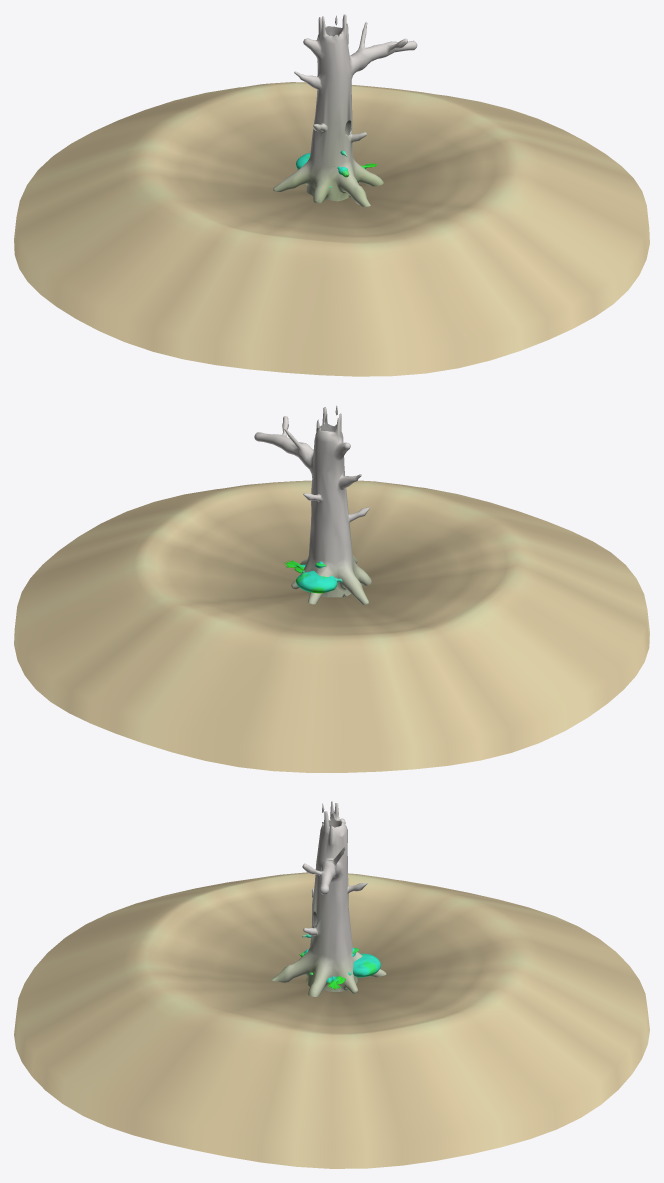
The model's file is oddities.glb.
3 renders of one model, top to bottom at view 1: azimuth 30°, elevation 25°; view 2: azimuth 150°, elevation 25°; view 3: azimuth 270°, elevation 25°, orthographic.
Parts seen in each view (by area): view 1: odd_antlion_pit, odd_nest_snag; view 2: odd_antlion_pit, odd_nest_snag, odd_antlion_head; view 3: odd_antlion_pit, odd_nest_snag, odd_antlion_head.
Boxes of the visible parts, <box> form: odd_antlion_pit: <box>14,82,649,376</box>; odd_nest_snag: <box>273,14,417,206</box>; odd_antlion_pit: <box>14,480,649,772</box>; odd_nest_snag: <box>254,405,371,604</box>; odd_antlion_head: <box>296,570,342,593</box>; odd_antlion_pit: <box>14,872,649,1168</box>; odd_nest_snag: <box>271,801,386,996</box>; odd_antlion_head: <box>348,953,380,977</box>.
Bounding box in the file's own units: 12.5 × 5.06 × 12.5.
